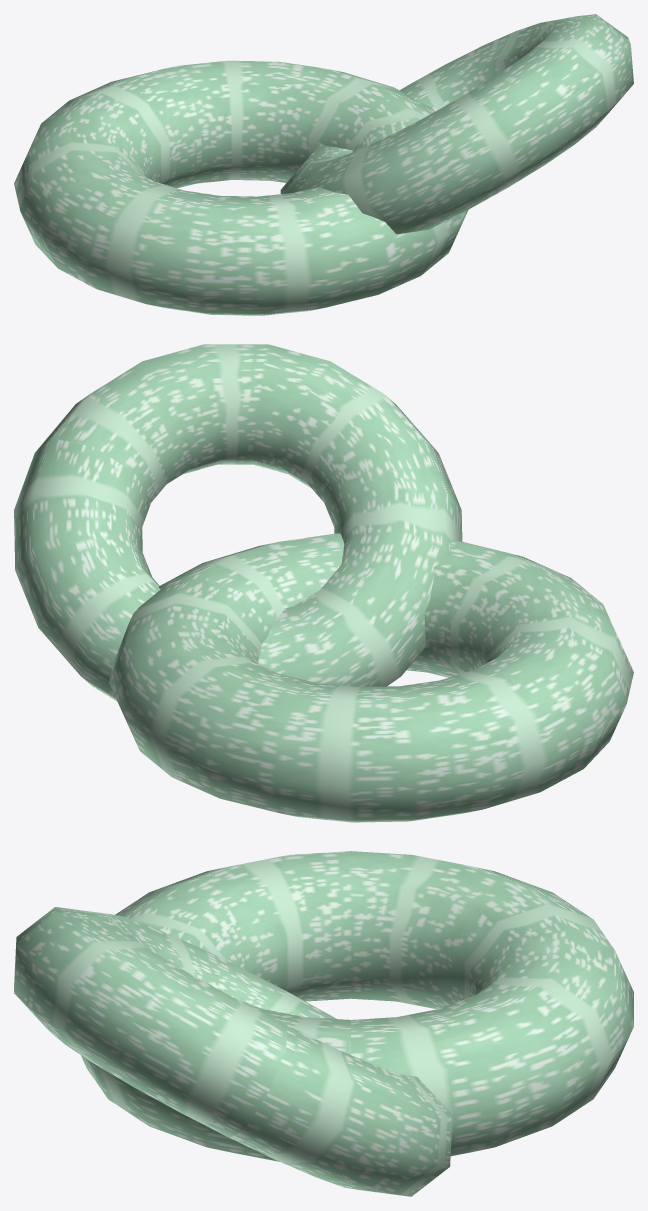
File: candymint.obj
The picture shows the model from 3 angles, top to bottom: view 1: azimuth 30°, elevation 25°; view 2: azimuth 150°, elevation 25°; view 3: azimuth 270°, elevation 25°; orthographic projection. The views are drawn at different scales.
Visible parts, largest first — view 1: candymint_0_surface; view 2: candymint_0_surface; view 3: candymint_0_surface.
Part boxes in pixels (left/top/right/bottom): candymint_0_surface: left=14, top=14, right=633, bottom=315; candymint_0_surface: left=14, top=344, right=633, bottom=822; candymint_0_surface: left=14, top=851, right=633, bottom=1196.
Size of the model in its own units: 0.1932 by 0.0816 by 0.1582.
Materials: 1 (1 with a texture image).
